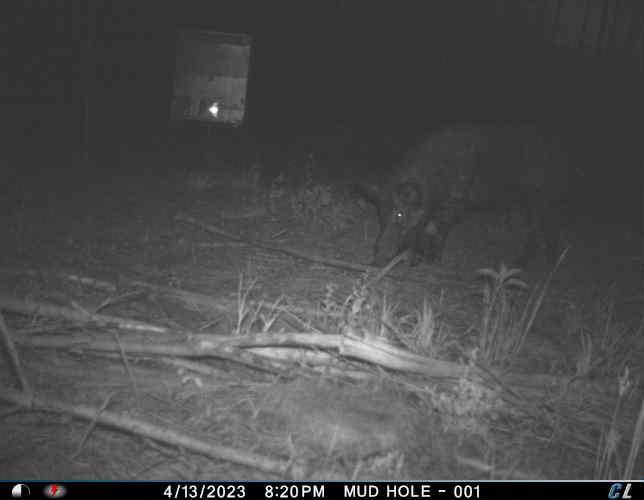Hog: (361, 120, 589, 273)
